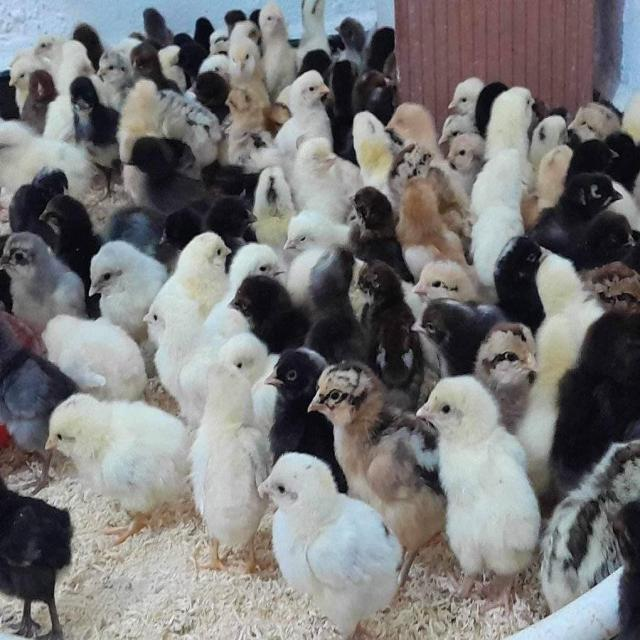Healthy: (413, 371, 555, 575), (251, 442, 405, 619), (36, 397, 201, 548), (75, 234, 167, 331)
